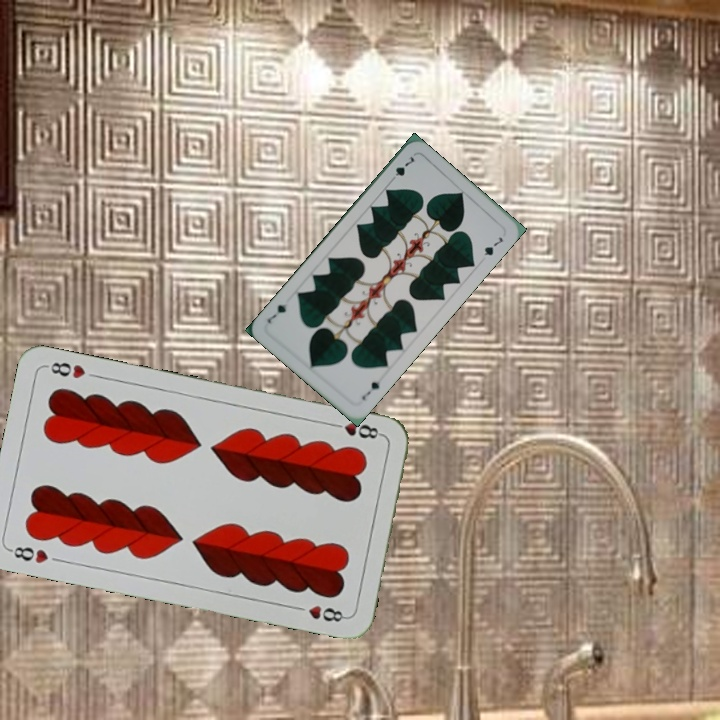G7: (385, 152, 418, 185), (358, 377, 382, 403)
H8: (326, 418, 385, 442), (5, 542, 51, 566)
